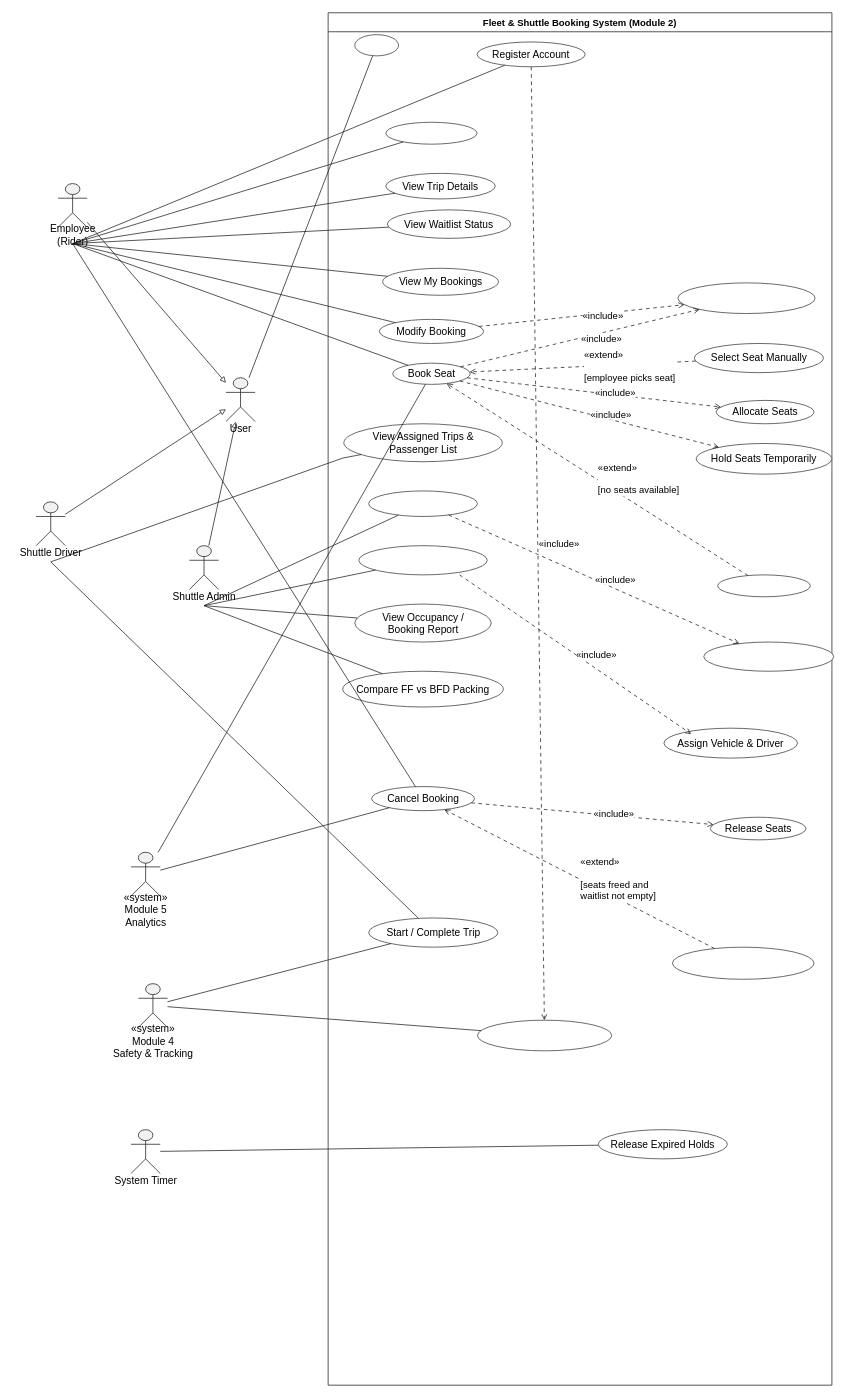
The diagram is 847 pixels wide and 1398 high, and some of its shapes have lost their labels. Here are the shapes that lost their labels. From the top down, the centre of each, then its label:
At pixel 376 45: "Login".
At pixel 431 133: "Search Trips".
At pixel 746 298: "Check Seat Availability".
At pixel 422 503: "Manage Vehicles".
At pixel 422 560: "Manage Shuttle Trips".
At pixel 763 585: "Join Waitlist".
At pixel 768 656: "Generate Seat Layout".
At pixel 743 962: "Promote Waitlist (FIFO)".
At pixel 544 1035: "Verify Corporate Email".
